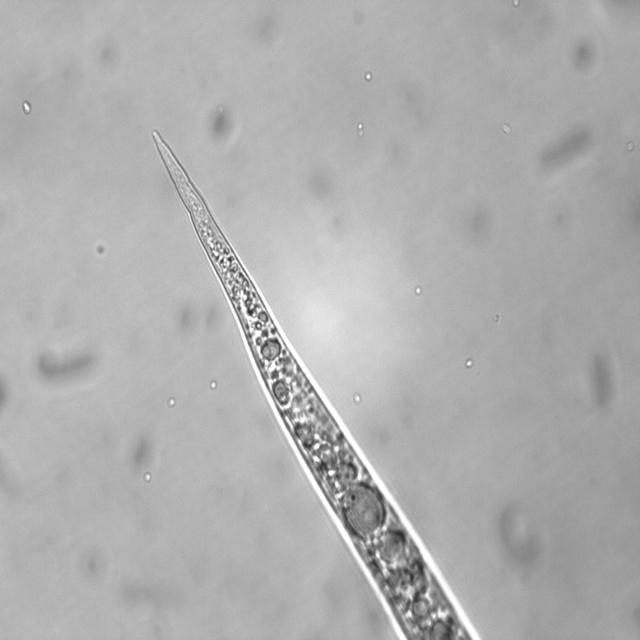Meloidogyne: (140, 122, 488, 640)
